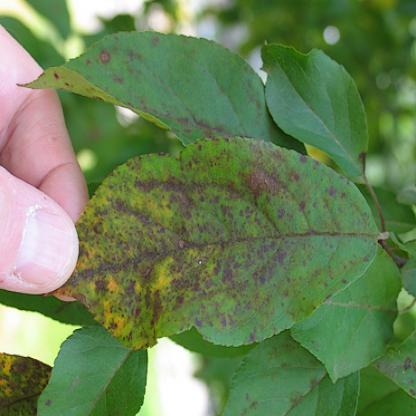Apple Scab Leaf: (62, 140, 378, 346)
